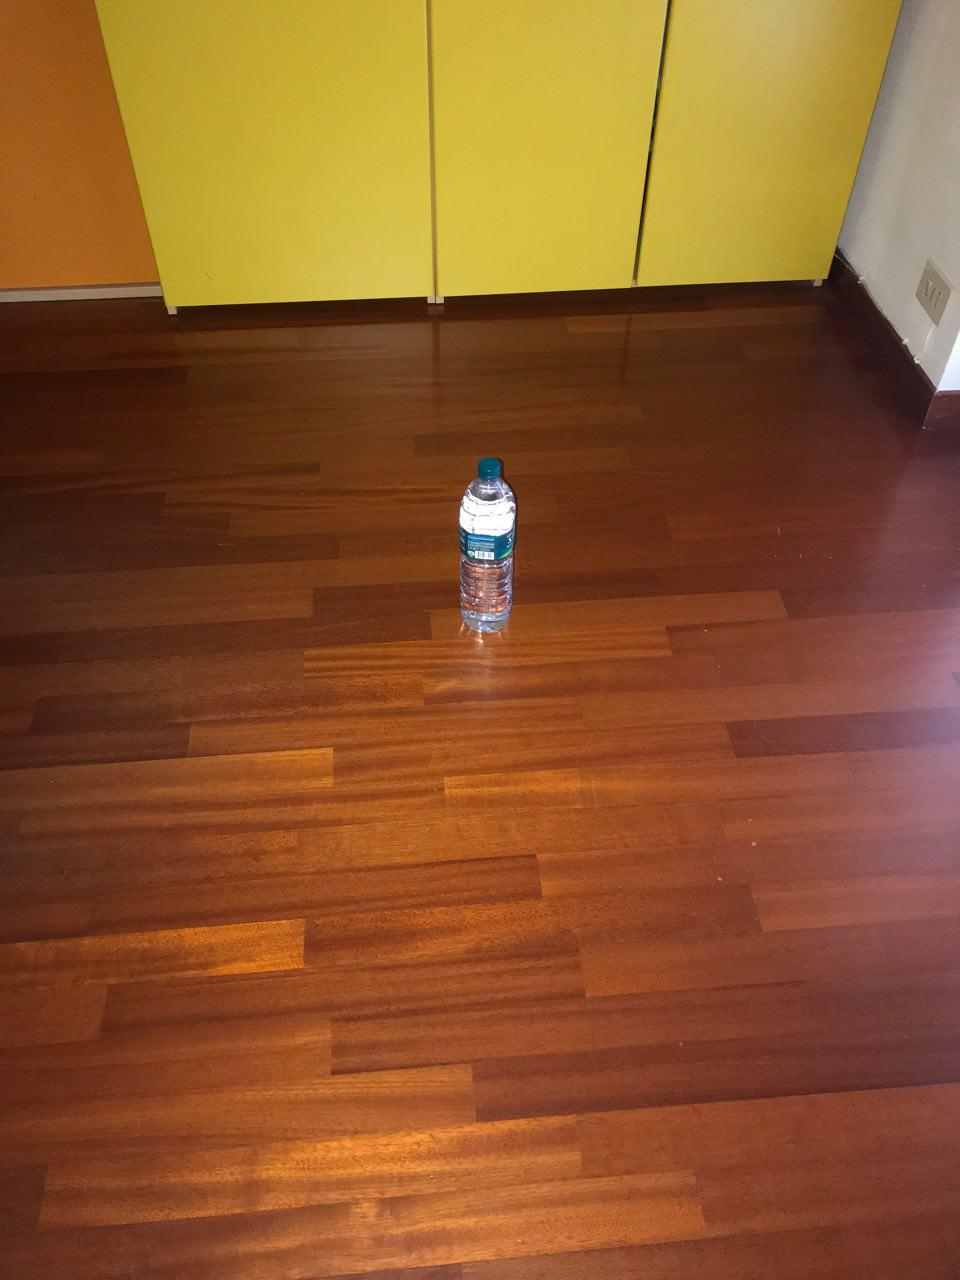san_bernardo: (458, 456, 520, 633)
